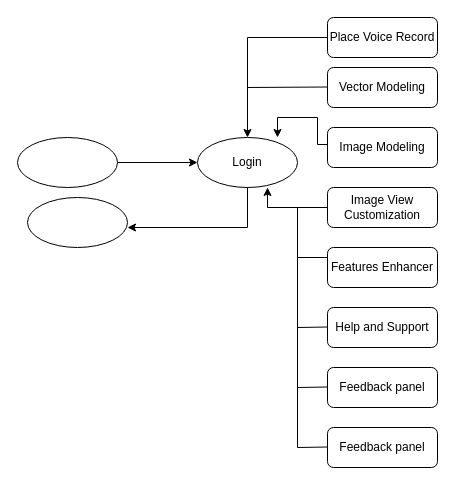
This 455x485 diagram has some shape labels left out. The centre of each missing label's shape, as x and y in pixels:
"Logout" belongs at pixel 77 222.
"Sign Up" belongs at pixel 67 162.
